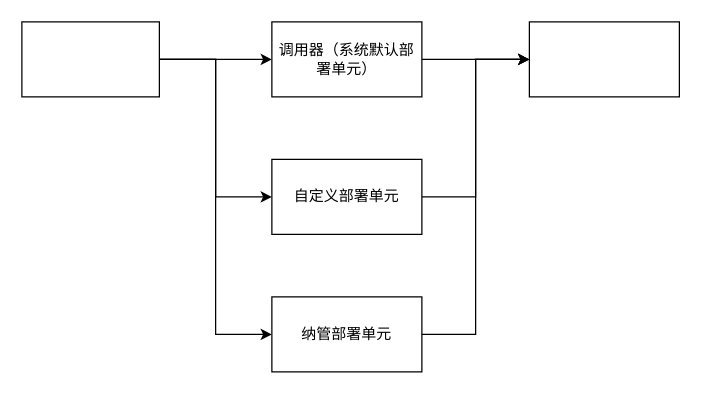
Some shapes in this 701 by 394 pixel diagram are drawn without their labels. Here are the shapes that lost their labels. From the top down, the centre of each, then its label:
At (x=90, y=59): "调用服务".
At (x=603, y=59): "服务提供方".
